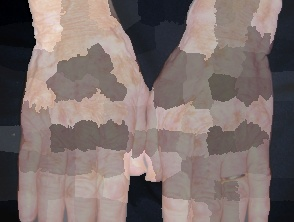vitiligo: (14, 0, 158, 221), (149, 5, 282, 217)
